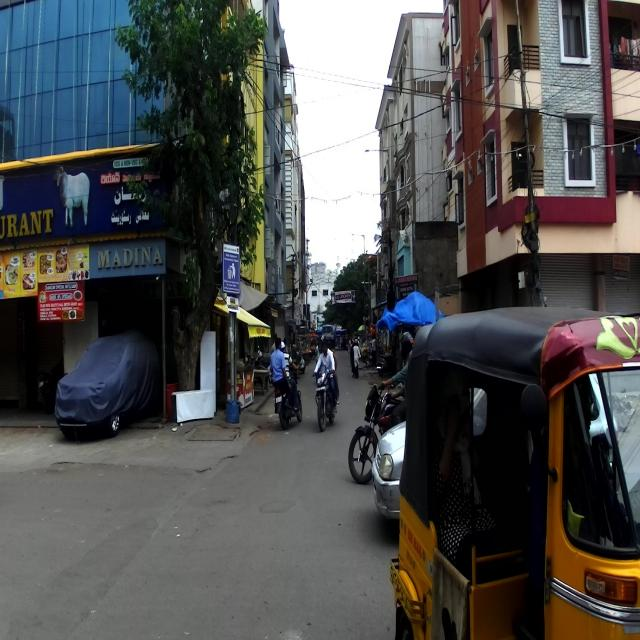Car: (52, 331, 166, 439)
autorickshaw: (391, 303, 640, 636)
motorcycle_Hero: (347, 377, 406, 485), (273, 361, 303, 430), (311, 368, 340, 432)
